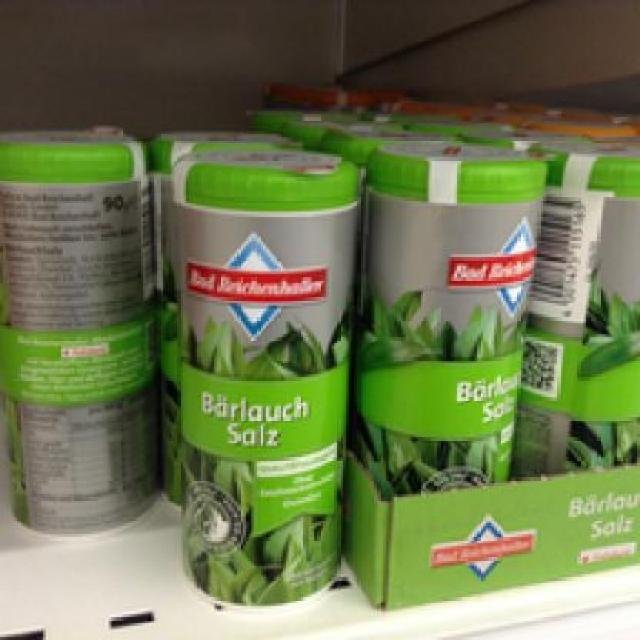Spices: (166, 143, 363, 603), (360, 137, 549, 492), (0, 124, 152, 538)
